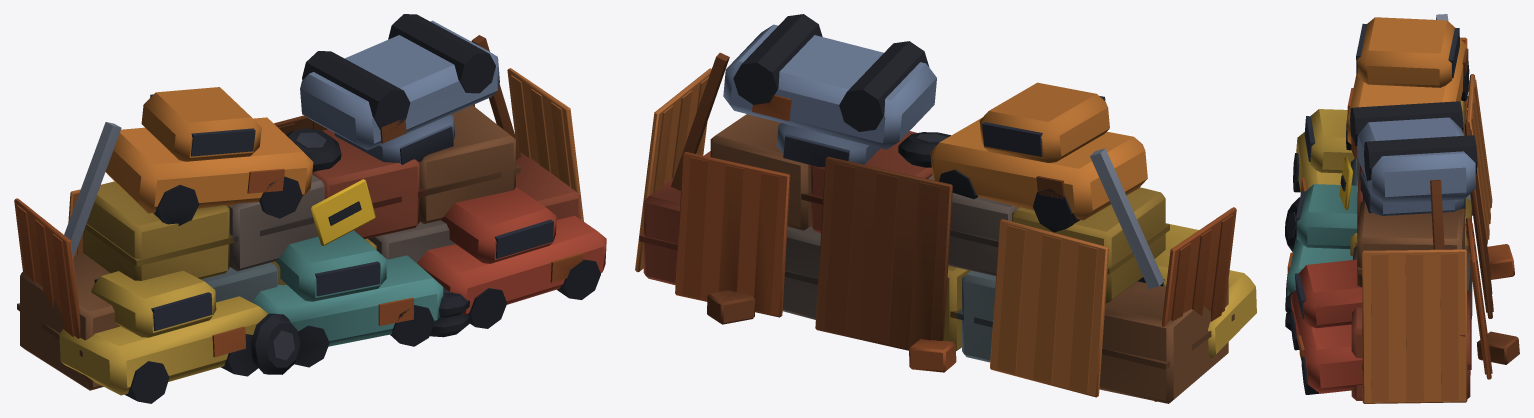
File: x_barrier_staub.glb
3 views of the same model, side by side, from view 1: azimuth 30°, elevation 25°; view 2: azimuth 150°, elevation 25°; view 3: azimuth 270°, elevation 25° (orthographic). The views are drawn at different scales.
Visible parts, largest first — view 1: body; view 2: body; view 3: body.
Boxes of the visible parts, x1,y1,x2,y2 form: body: [14, 14, 606, 403]; body: [635, 14, 1256, 403]; body: [1285, 14, 1519, 403].
Bounding box in the file's own units: 7.98 × 3.49 × 3.37.
